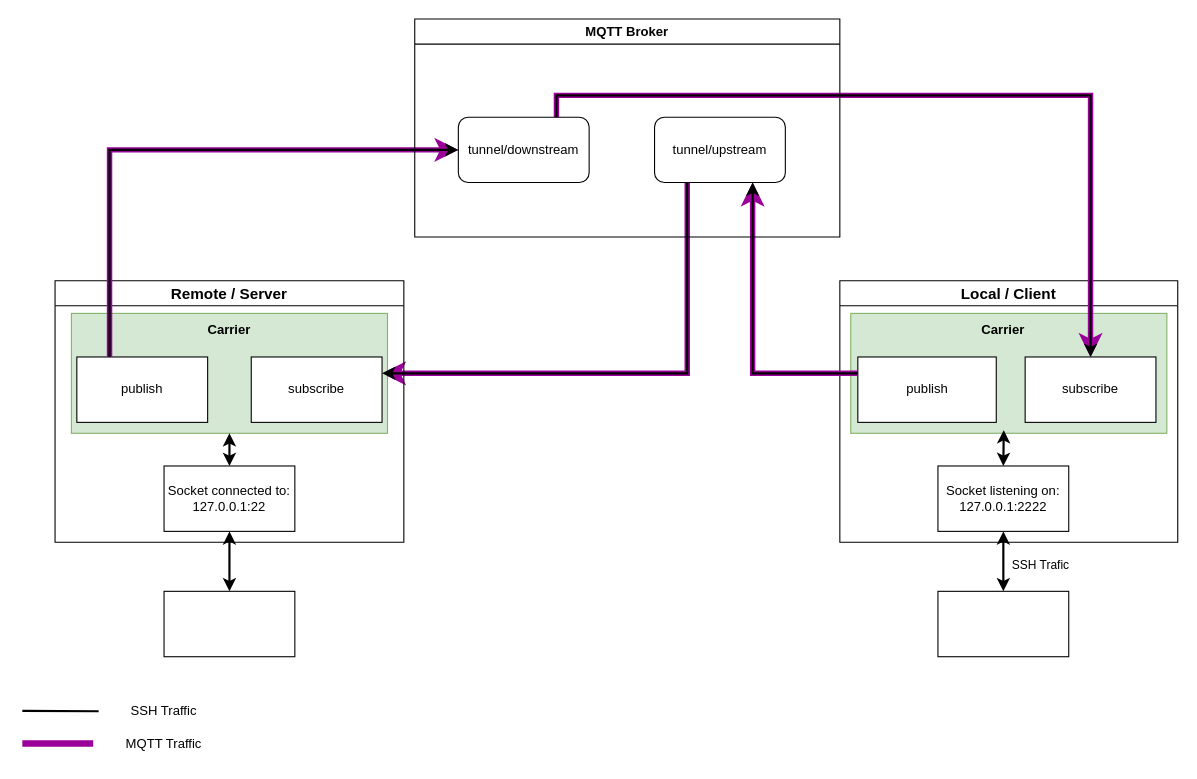
Image size: 1197x779. Some labels were removed from this diagram. Here are the shapes that lost their labels. From the top down, the centre of each, then its label:
(x=229, y=623): SSH Server
(x=1003, y=623): SSH Client
